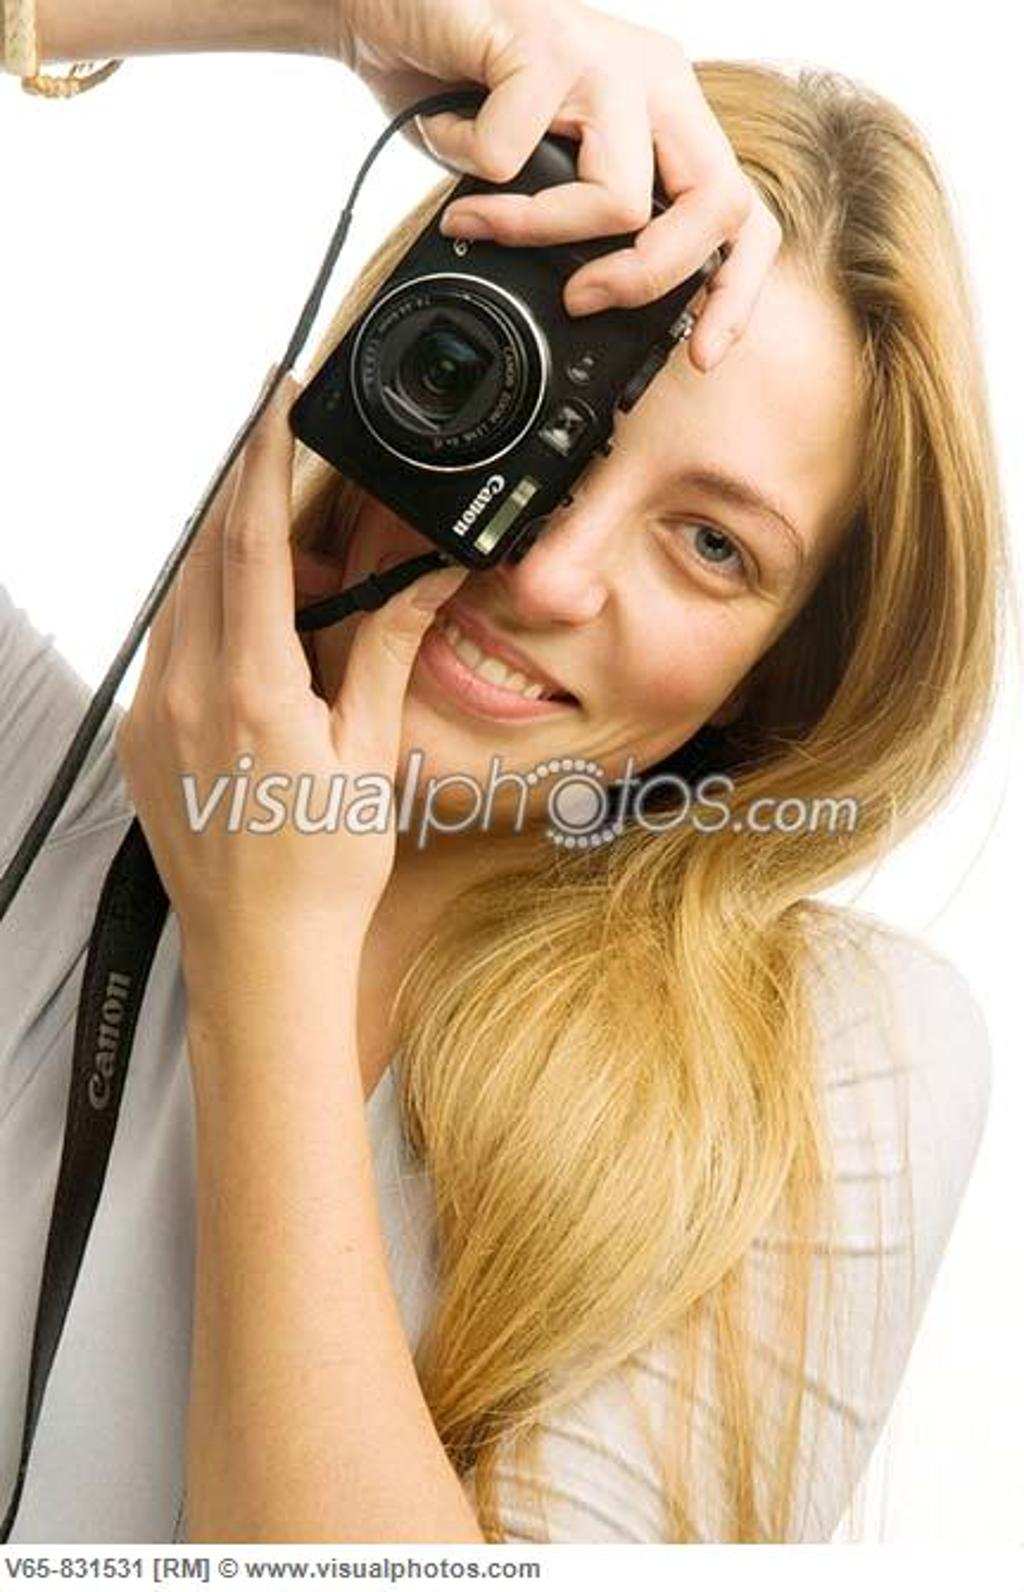face: (327, 240, 837, 806)
